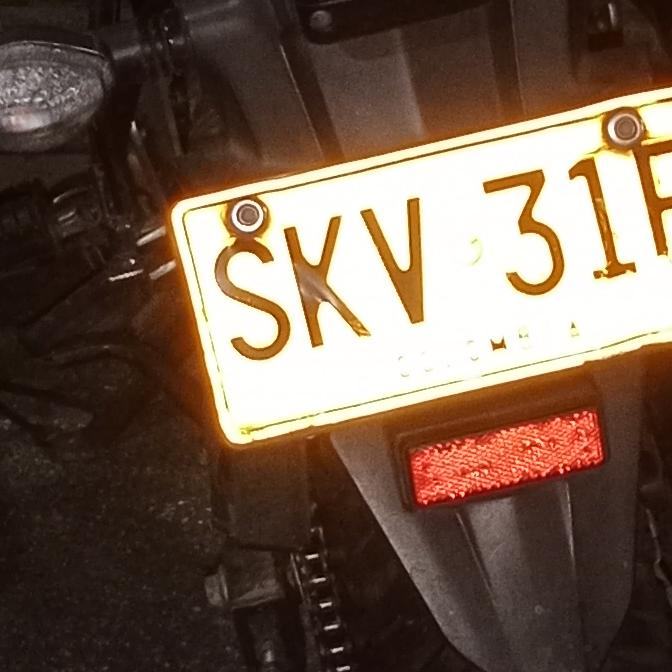plates: (166, 92, 672, 442)
